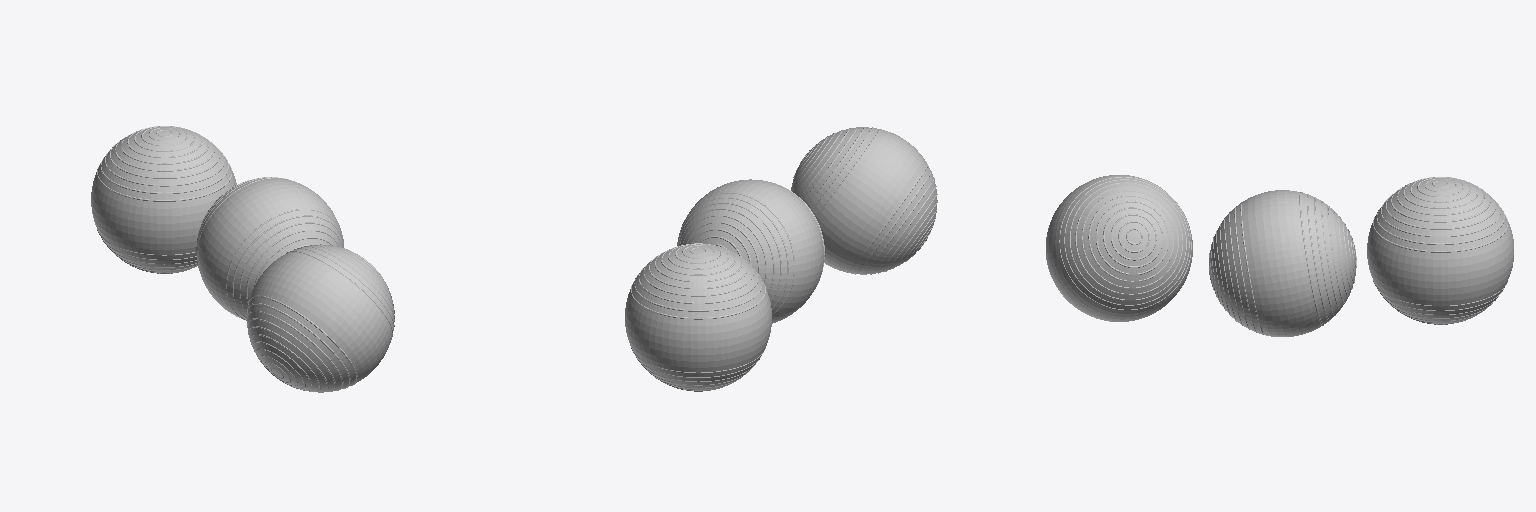
The model's file is BALL AEROBIC.obj.
3 views of the same model, side by side, from view 1: azimuth 30°, elevation 25°; view 2: azimuth 150°, elevation 25°; view 3: azimuth 270°, elevation 25° (orthographic).
Parts seen in each view (by area): view 1: Sphere003, Sphere001, Sphere012; view 2: Sphere001, Sphere003, Sphere012; view 3: Sphere001, Sphere012, Sphere003.
Boxes of the visible parts, <box> form: Sphere003: <box>247,244,394,392</box>; Sphere001: <box>91,126,236,273</box>; Sphere012: <box>196,177,343,320</box>; Sphere001: <box>625,243,771,391</box>; Sphere003: <box>791,127,937,274</box>; Sphere012: <box>677,179,824,323</box>; Sphere001: <box>1367,177,1513,324</box>; Sphere012: <box>1209,190,1356,336</box>; Sphere003: <box>1046,175,1192,321</box>.
Size of the model in its own units: 749 by 603 by 1907.